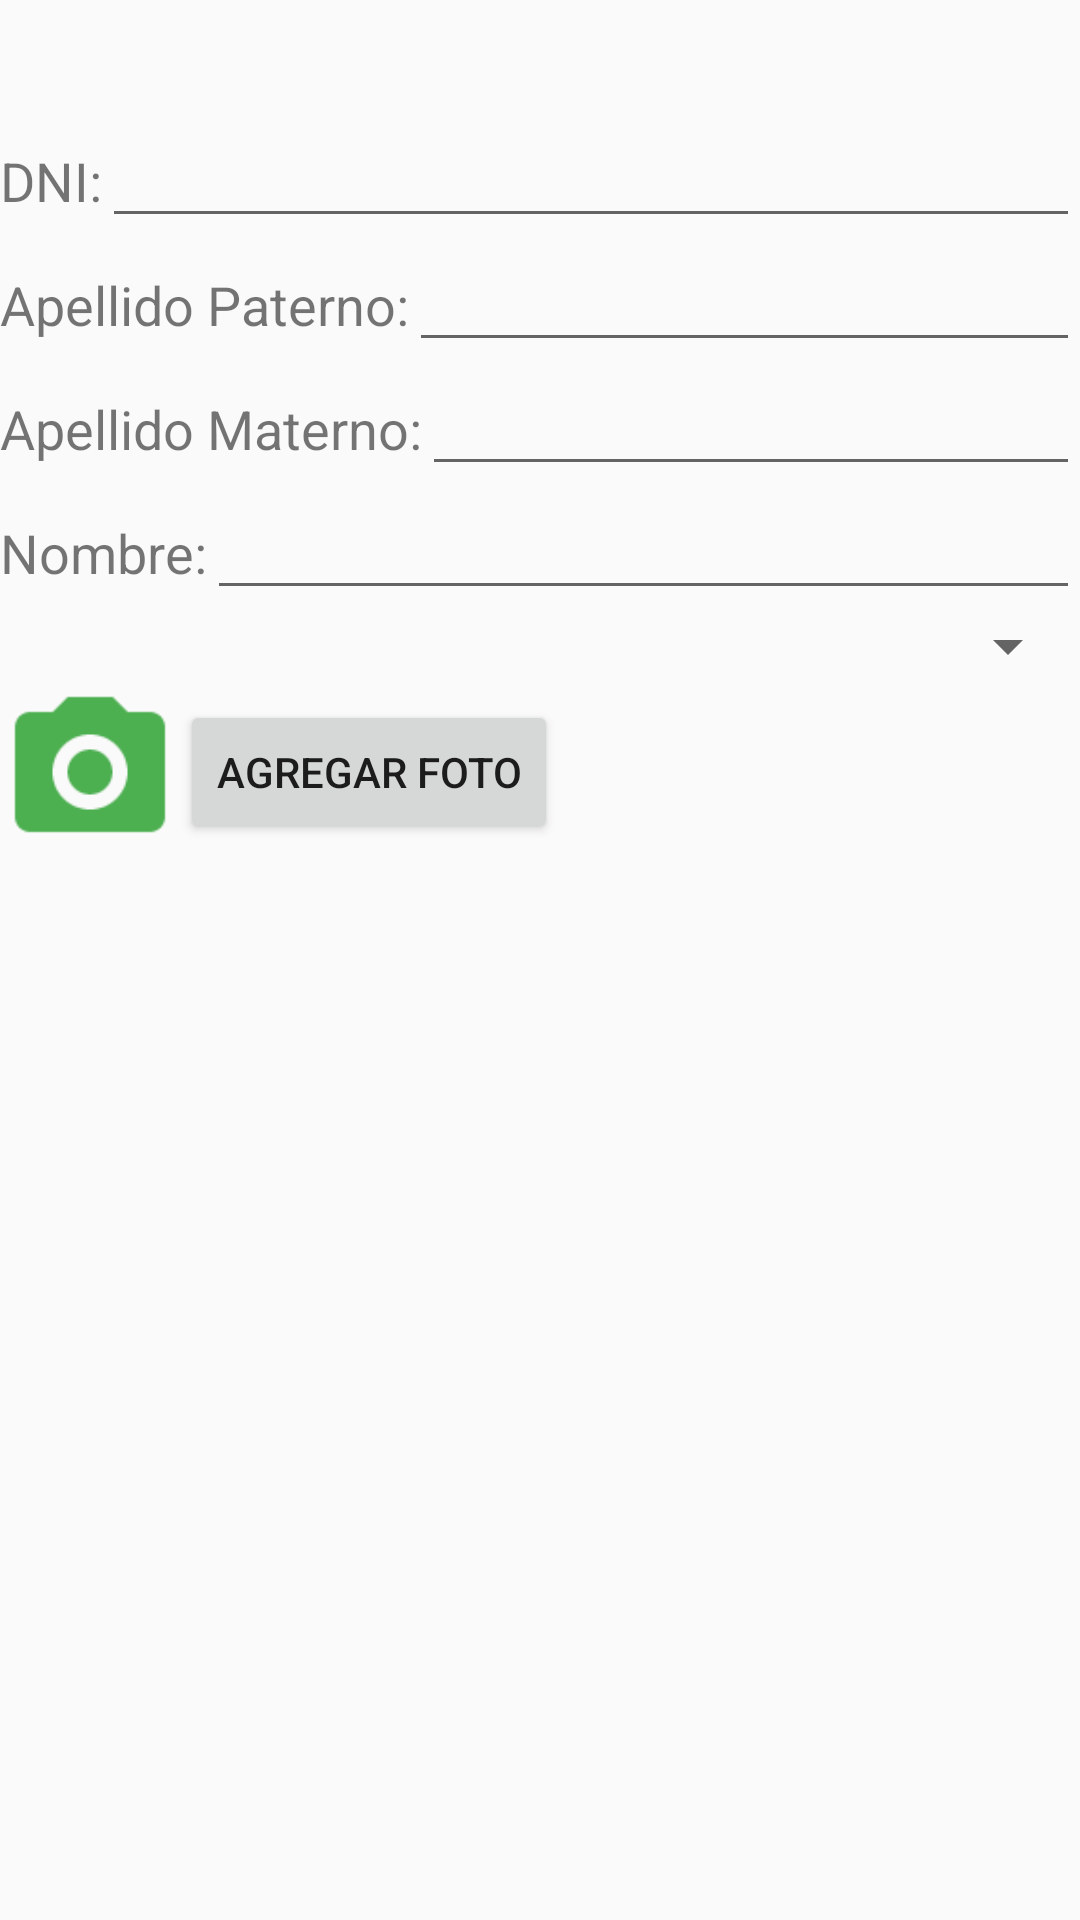

Icon click points for this 1080 x 1920 phone screenshot, format (x,y):
camera: (90,764)
